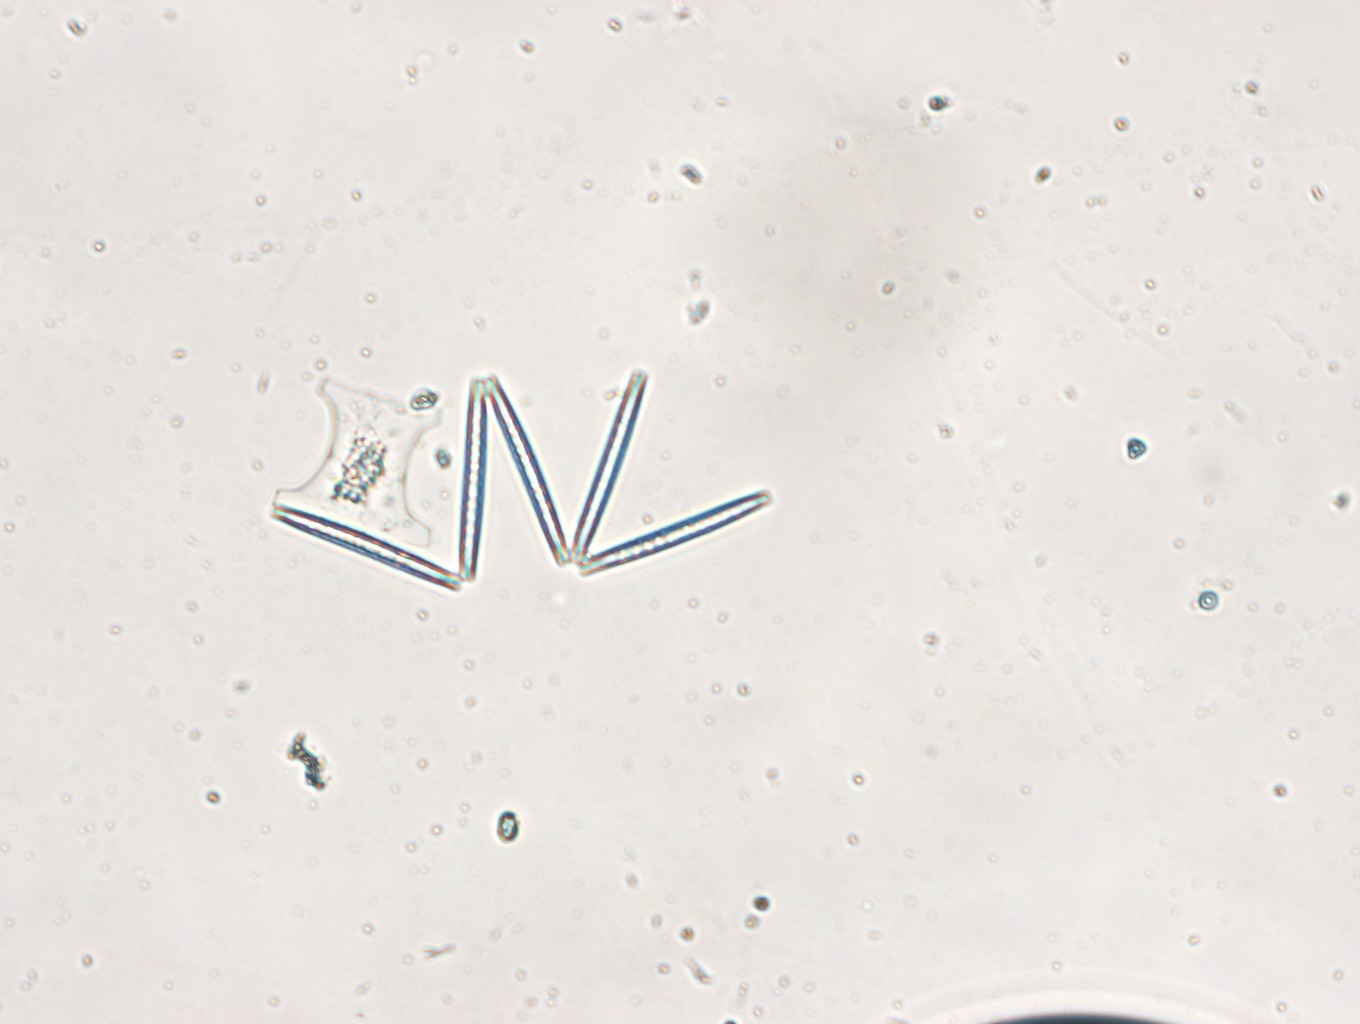eucampia: (272, 378, 443, 556)
thalassionema nitzschioides: (273, 367, 773, 591)
